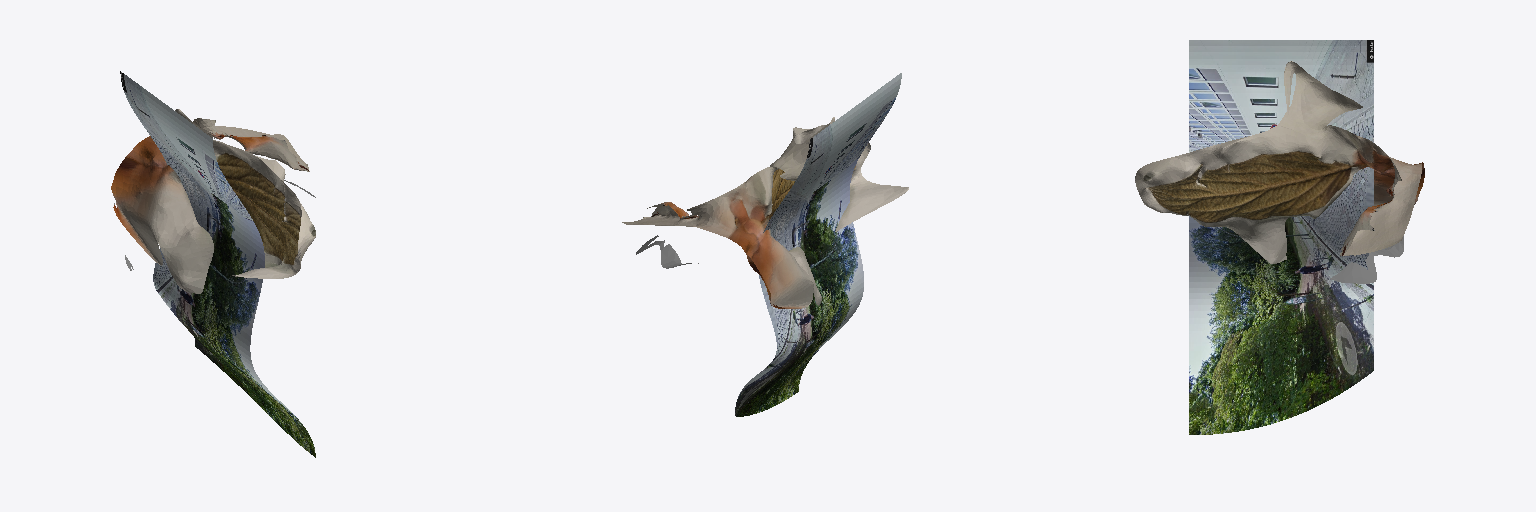
3 views of the same model, side by side, from view 1: azimuth 30°, elevation 25°; view 2: azimuth 150°, elevation 25°; view 3: azimuth 270°, elevation 25° (orthographic).
Visible parts, largest first — view 1: object_1, object_3; view 2: object_1, object_3, object_2; view 3: object_1, object_3, object_2.
Boxes of the visible parts, box(x1,y1,x2,y2) form: object_1: box(120, 71, 315, 457); object_3: box(111, 109, 315, 293); object_1: box(735, 73, 901, 416); object_3: box(622, 117, 908, 308); object_2: box(636, 226, 799, 342); object_1: box(1189, 40, 1373, 434); object_3: box(1135, 61, 1424, 263); object_2: box(1330, 236, 1403, 283).
Size of the model in its own units: 30.76 by 57.11 by 43.55.
3 materials, 2 textured.